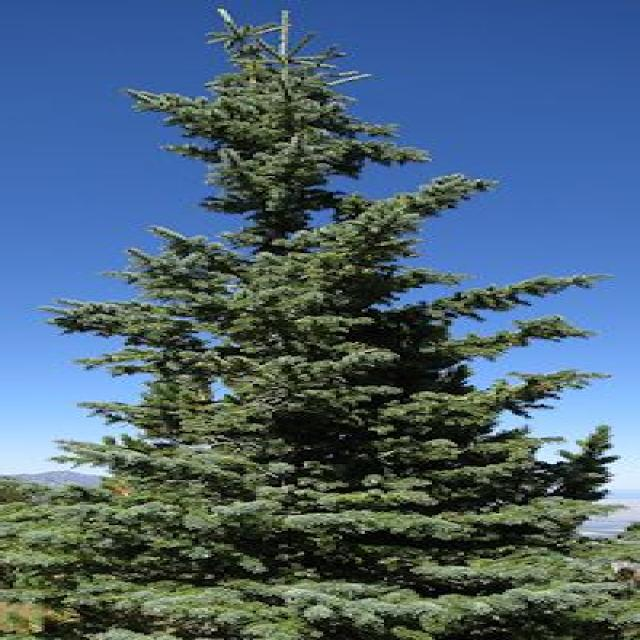Picea engelmannii: (34, 11, 640, 627)
